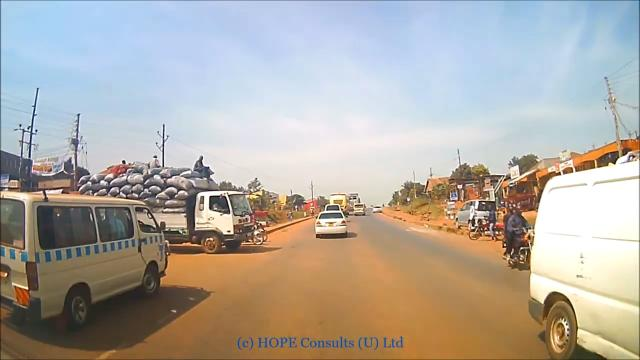car: (310, 209, 353, 238), (323, 203, 342, 215), (372, 206, 382, 214)
truck: (170, 178, 253, 255)
van: (1, 193, 158, 310), (454, 199, 497, 231), (353, 203, 366, 216)
